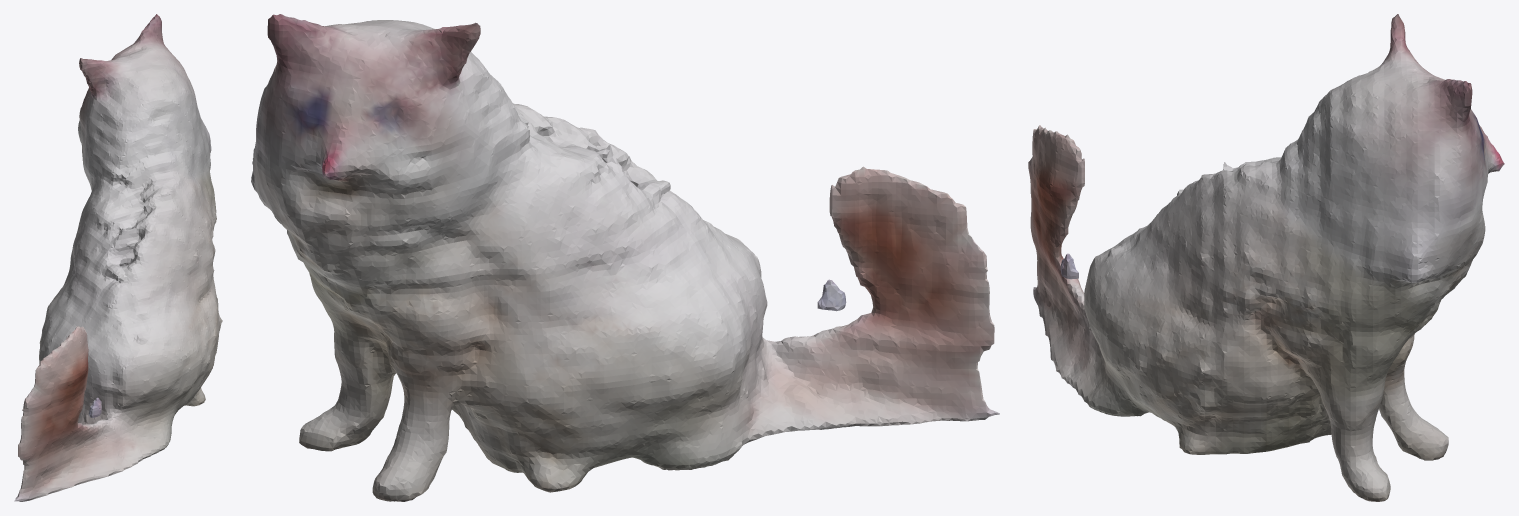
Rendered from model_raw.glb.
3 renders of one model, left to right at view 1: azimuth 30°, elevation 25°; view 2: azimuth 150°, elevation 25°; view 3: azimuth 270°, elevation 25°, orthographic. The views are drawn at different scales.
Parts seen in each view (by area): view 1: world; view 2: world; view 3: world.
Part boxes in pixels (box(x1,y1,x2,y2)): world: box(14, 14, 222, 501); world: box(251, 14, 999, 501); world: box(1028, 14, 1504, 501).
Size of the model in its own units: 1.55 by 1.35 by 1.39.
